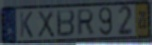2: (117, 5, 134, 38)
9: (97, 6, 114, 37)
B: (55, 9, 76, 38)
K: (19, 11, 34, 39)
R: (76, 8, 96, 37)
X: (37, 9, 56, 39)
